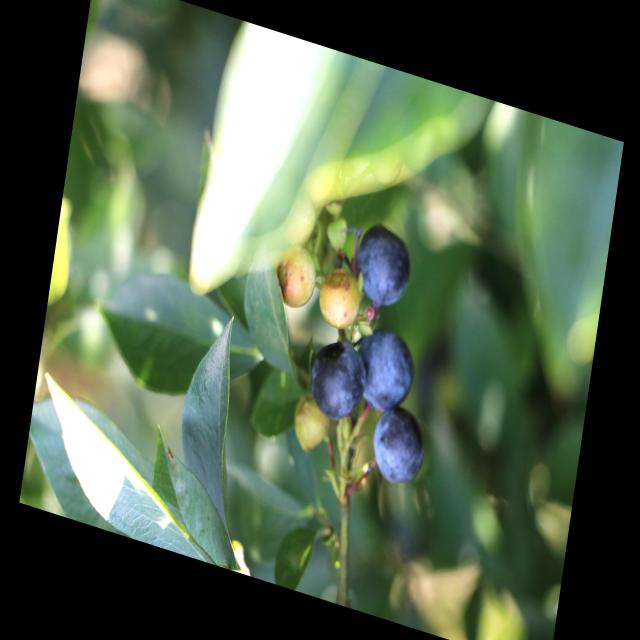blueberry: (346, 215, 419, 318), (353, 322, 421, 422), (304, 333, 371, 428), (365, 400, 432, 493)
blueberry-unripe: (271, 243, 319, 317), (314, 266, 364, 337), (292, 402, 331, 461)
